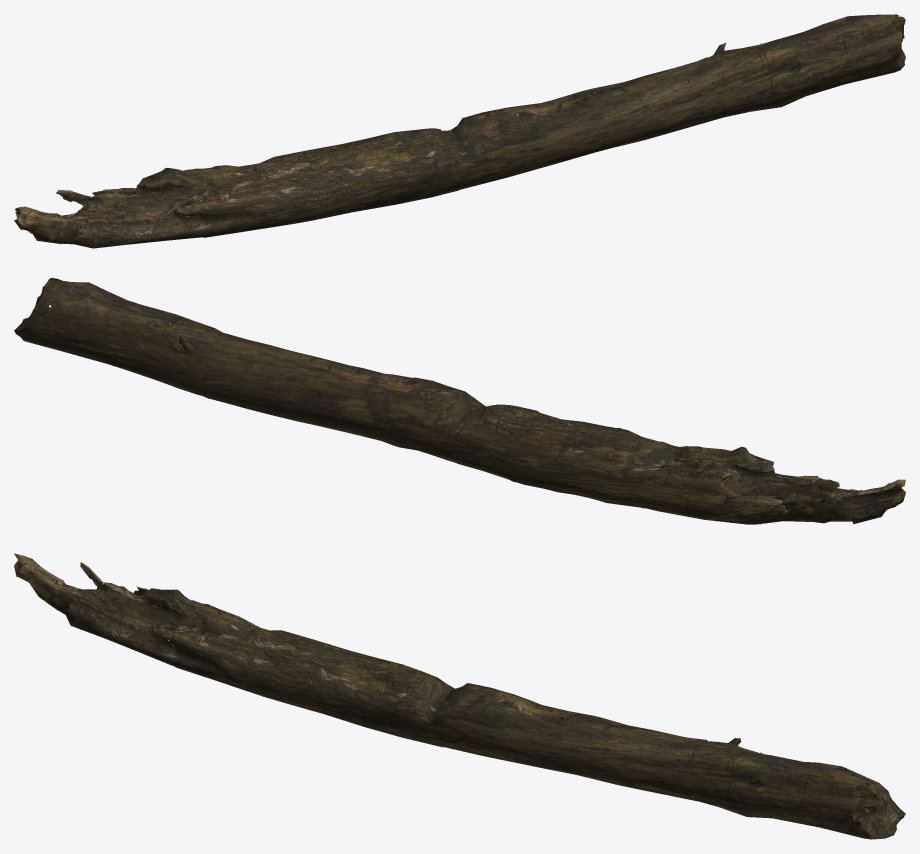
Rendered from dead_tree_trunk.glb.
The picture shows the model from 3 angles, top to bottom: view 1: azimuth 30°, elevation 25°; view 2: azimuth 150°, elevation 25°; view 3: azimuth 330°, elevation 25°; orthographic projection.
Parts seen in each view (by area): view 1: lod0; view 2: lod0; view 3: lod0.
Boxes of the visible parts, x1,y1,x2,y2 form: lod0: (14,14,905,248); lod0: (14,278,905,524); lod0: (14,553,905,839).
Size of what is drawn, in the model's own units: 3.05 by 0.2882 by 0.2735.
1 material, 1 textured.
